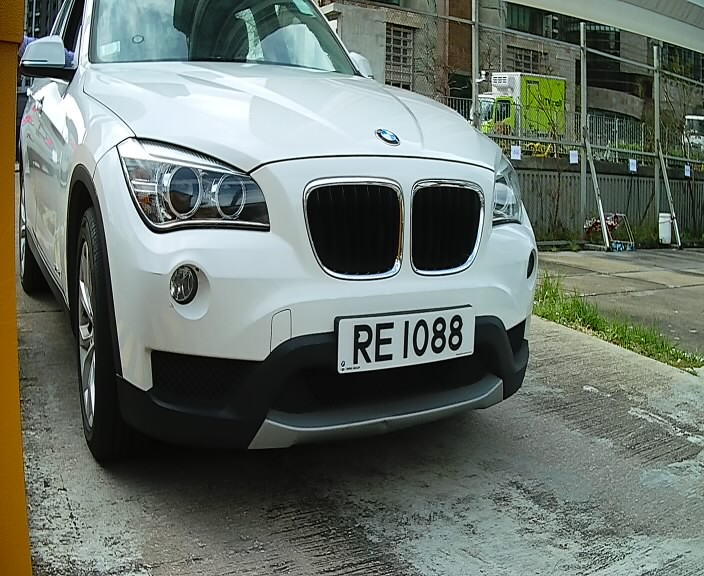Car: (22, 2, 551, 490)
License Plate: (331, 300, 481, 384)
